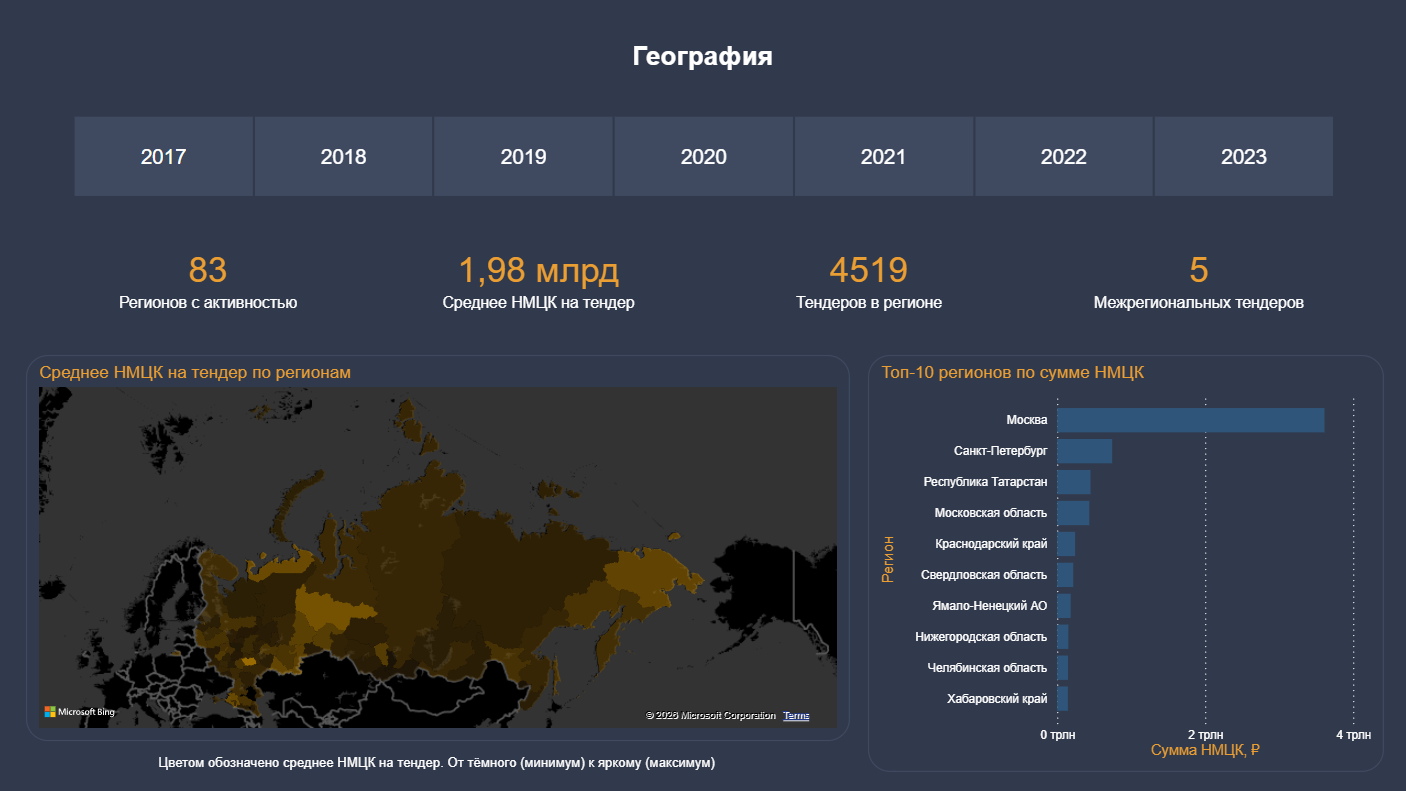

Layout of this report page (visuals, bound fields, positions):
{"tool":"powerbi","page":{"name":"География","canvas":[1280,720],"ordinal":2},"visuals":[{"type":"filledMap","title":"Среднее НМЦК на тендер по регионам","fields":{"Category":["public dim_region.name_geo"]},"box":[24.5,323.6,749.1,350.9],"z":0},{"type":"slicer","fields":{"Values":["public dim_date.year"]},"box":[43,100,1194,86],"z":1000},{"type":"textbox","box":[409.4,33,461.4,44.9],"z":2000},{"type":"card","fields":{"Values":["public fact_tenders.Среднее НМЦК на тендер"]},"box":[340,185.5,300.9,135.5],"z":3000},{"type":"card","fields":{"Values":["public fact_tenders.Регионов с активностью"]},"box":[40,185.8,300,135.2],"z":4000},{"type":"card","fields":{"Values":["public fact_tenders.Число тендеров"]},"box":[640.9,185.5,300,135.5],"z":5000},{"type":"clusteredBarChart","title":"Топ-10 регионов по сумме НМЦК","fields":{"Category":["public dim_region.Регион"],"Y":["public fact_tenders.Сумма НМЦК, ₽"]},"box":[790,323.6,469.1,379.1],"z":6000},{"type":"textbox","box":[140,681.8,517.3,28.2],"z":7000},{"type":"card","fields":{"Values":["public fact_tenders.Межрегиональных тендеров"]},"box":[940.9,185.5,300,135.5],"z":8000}]}

Visuals, with their boxes in screenshot pixels (x1, y1, x2, y2), scaled from the page's 1280x720 canvas onto the 1406x791 screenshot:
"Среднее НМЦК на тендер по регионам" filledMap: BBox(27, 356, 850, 741)
slicer - public dim_date.year: BBox(47, 110, 1359, 204)
textbox: BBox(450, 36, 957, 86)
card - public fact_tenders.Среднее НМЦК на тендер: BBox(373, 204, 704, 353)
card - public fact_tenders.Регионов с активностью: BBox(44, 204, 373, 353)
card - public fact_tenders.Число тендеров: BBox(704, 204, 1034, 353)
"Топ-10 регионов по сумме НМЦК" clusteredBarChart: BBox(868, 356, 1383, 772)
textbox: BBox(154, 749, 722, 780)
card - public fact_tenders.Межрегиональных тендеров: BBox(1034, 204, 1363, 353)
